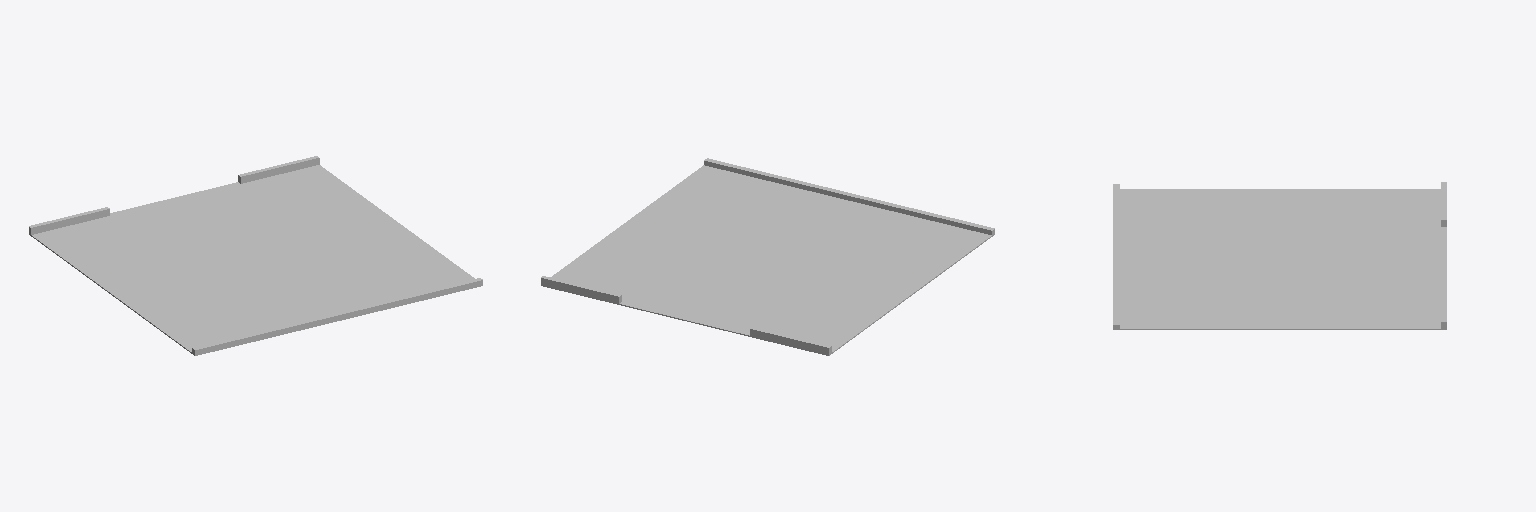
Rendered from dgfgdg.obj.
3 views of the same model, side by side, from view 1: azimuth 30°, elevation 25°; view 2: azimuth 150°, elevation 25°; view 3: azimuth 270°, elevation 25° (orthographic).
Visible parts, largest first — view 1: object 1; view 2: object 1; view 3: object 1.
Part boxes in pixels (left/top/right/bottom): object 1: left=29, top=156, right=482, bottom=355; object 1: left=541, top=158, right=994, bottom=355; object 1: left=1113, top=182, right=1446, bottom=329.
Bounding box in the file's own units: 25.6 × 0.7 × 25.6.